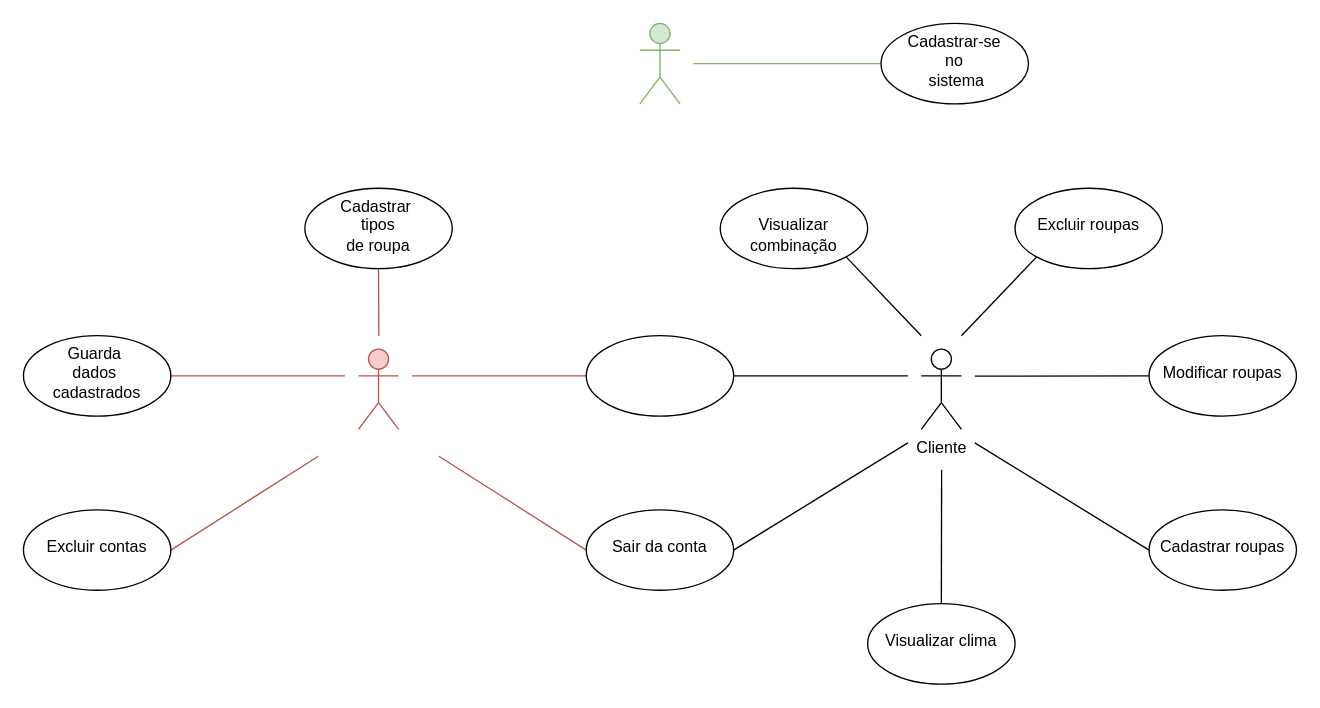
Some shapes in this 1320 by 708 pixel diagram are drawn without their labels. The shapes that lost their labels are listed below. From the top down, each one's centre as x and y in pixels, then its label:
pixel 659 63: Visitante
pixel 378 388: Administrador
pixel 659 375: Entrar dentro da conta
